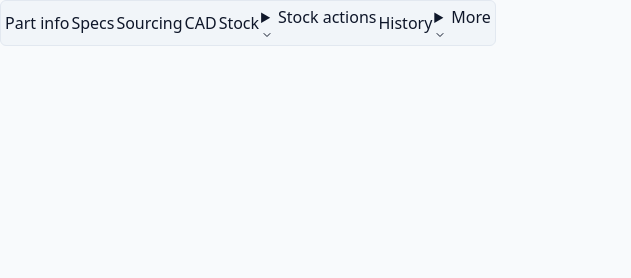
Test: part-detail tab strip › puts the previously-clipped tabs behind a disclosure the user can open
This screenshot has width=631, height=278.
Click the heading "More".
click(463, 23)  # box [434, 5, 491, 41]
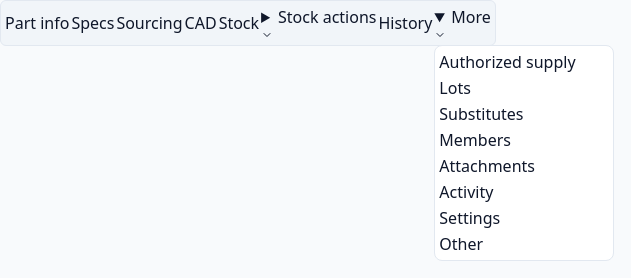
Now the link "Attachments" is shown, box [439, 155, 535, 177]
Now the link "Activity" is shown, box [439, 181, 493, 203]
Now the link "Settings" is shown, box [439, 207, 500, 229]
